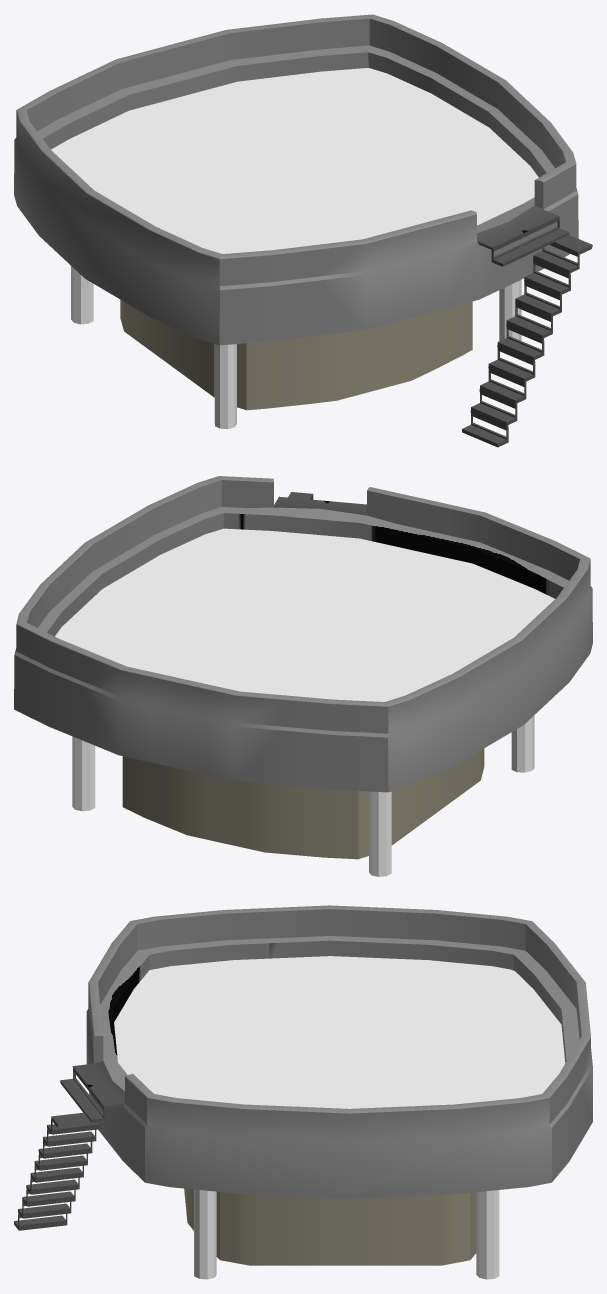
File: EstructuraHelicopteros.fbx
3 views of the same model, one above another, from view 1: azimuth 30°, elevation 25°; view 2: azimuth 150°, elevation 25°; view 3: azimuth 270°, elevation 25° (orthographic).
Parts seen in each view (by area): view 1: Zona de helicoptero; view 2: Zona de helicoptero; view 3: Zona de helicoptero.
Part boxes in pixels (box(x1,y1,x2,y2)): Zona de helicoptero: box(14, 14, 592, 447); Zona de helicoptero: box(14, 476, 592, 876); Zona de helicoptero: box(14, 905, 592, 1279).
Size of the model in its own units: 977 by 431 by 1143.
Materials: 1 (1 with a texture image).
